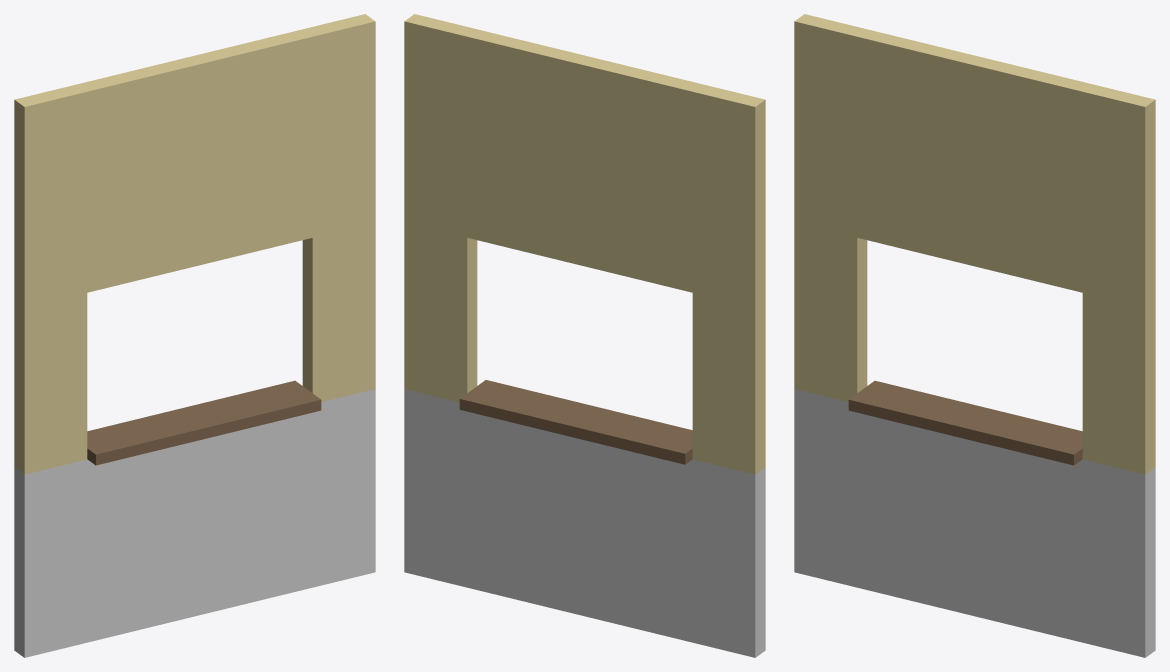
Rendered from Mesh_Wall2Colors_I3.fbx.
The picture shows the model from 3 angles, left to right: view 1: azimuth 30°, elevation 25°; view 2: azimuth 150°, elevation 25°; view 3: azimuth 330°, elevation 25°; orthographic projection.
Visible parts, largest first — view 1: Mesh_Wall2Colors_I3; view 2: Mesh_Wall2Colors_I3; view 3: Mesh_Wall2Colors_I3.
Boxes of the visible parts, <box> form: Mesh_Wall2Colors_I3: <box>14,14,375,657</box>; Mesh_Wall2Colors_I3: <box>404,14,765,657</box>; Mesh_Wall2Colors_I3: <box>794,14,1155,657</box>.
Bounding box in the file's own units: 2 × 3 × 0.2574.
